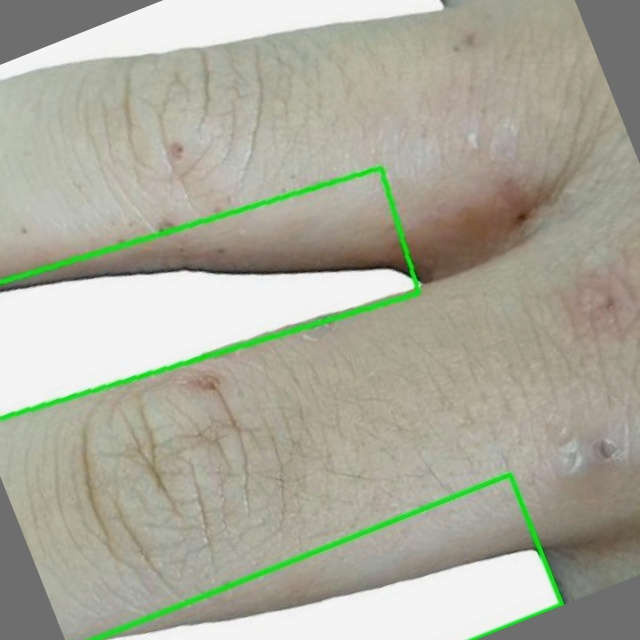Scabies: (0, 168, 418, 419)
